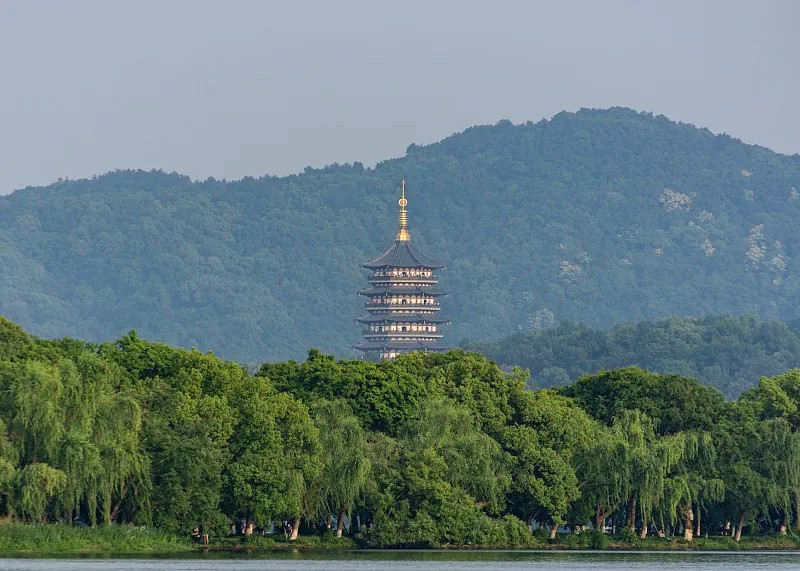Leifeng: (356, 177, 453, 363)
